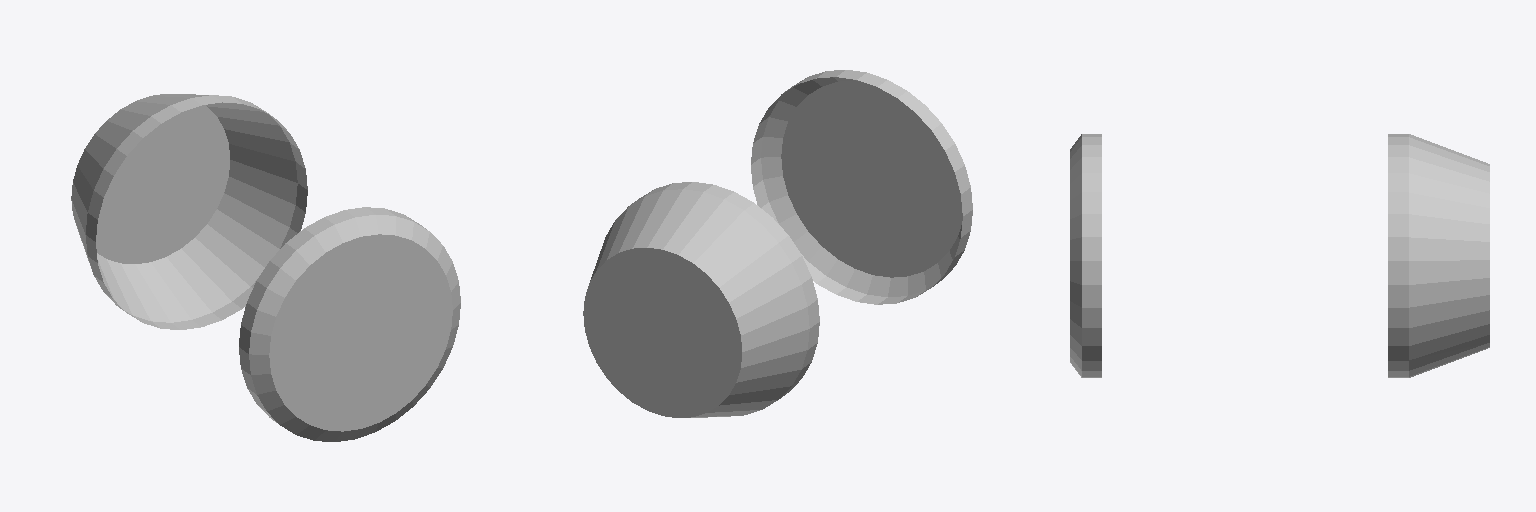
The model's file is sgc_door_keyway.obj.
3 renders of one model, left to right at view 1: azimuth 30°, elevation 25°; view 2: azimuth 150°, elevation 25°; view 3: azimuth 270°, elevation 25°, orthographic.
Visible parts, largest first — view 1: Keyway_Low; view 2: Keyway_Low; view 3: Keyway_Low.
Part boxes in pixels (x1,y1,x2,y2): Keyway_Low: (71, 94, 460, 441); Keyway_Low: (583, 70, 972, 417); Keyway_Low: (1070, 134, 1489, 377).
Bounding box in the file's own units: 0.0762 × 0.0762 × 0.1308.